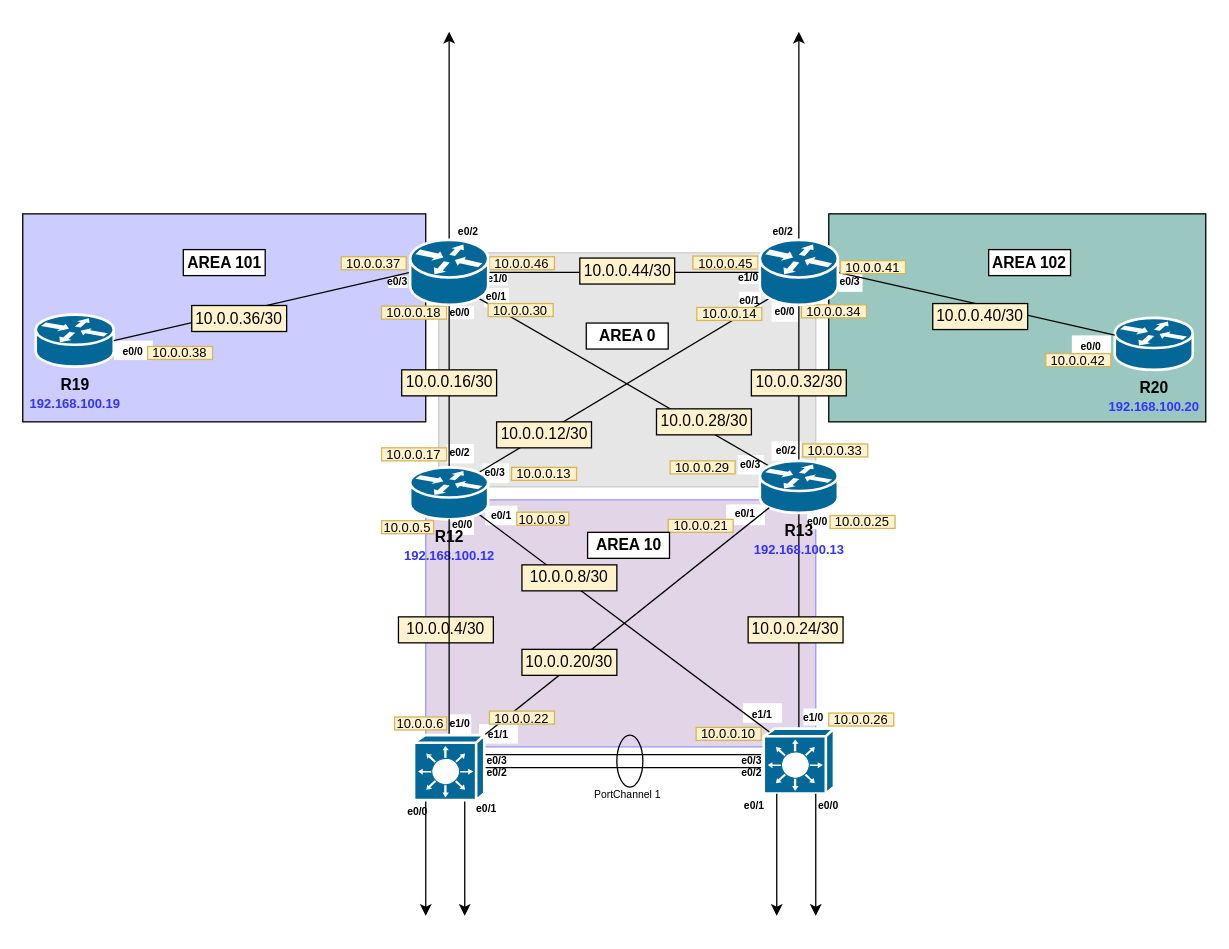
Some shapes in this 1229 by 949 pixel diagram are drawn without their labels. Here are the shapes that lost their labels. From the top down, the centre of each, then its label:
the point at 448,272: R14 192.168.100.14
the point at 798,272: R15 192.168.100.15
the point at 448,767: SW4 192.168.100.4
the point at 798,760: SW5 192.168.100.5
